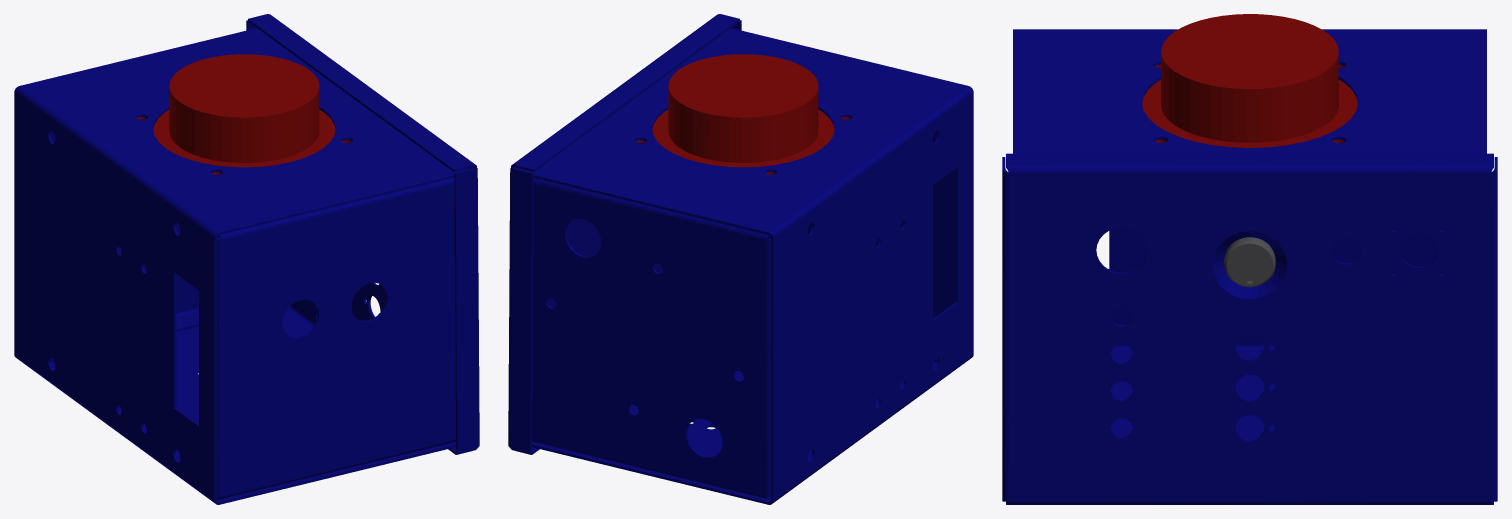
Rendered from oldbluebox.dae.
3 views of the same model, side by side, from view 1: azimuth 30°, elevation 25°; view 2: azimuth 150°, elevation 25°; view 3: azimuth 270°, elevation 25° (orthographic). The views are drawn at different scales.
Visible parts, largest first — view 1: body__32_Mat, body__35_Mat, body__28_red, body__36_Mat, body__34_Mat; view 2: body__32_Mat, body__34_Mat, body__28_red, body__36_Mat, body__35_Mat; view 3: body__36_Mat, body__32_Mat, body__28_red, body__40_Alu.
Boxes of the visible parts, x1,y1,x2,y2 form: body__32_Mat: (14,28,467,504); body__35_Mat: (217,178,455,499); body__28_red: (136,54,352,174); body__36_Mat: (246,14,479,454); body__34_Mat: (50,131,219,362); body__32_Mat: (519,28,973,504); body__34_Mat: (532,178,770,499); body__28_red: (635,54,851,174); body__36_Mat: (508,14,741,454); body__35_Mat: (768,131,955,362); body__36_Mat: (1002,153,1497,504); body__32_Mat: (1013,29,1486,439); body__28_red: (1142,14,1357,147); body__40_Alu: (1224,237,1275,287).
Size of the model in its own units: 0.154 by 0.2123 by 0.1793.
